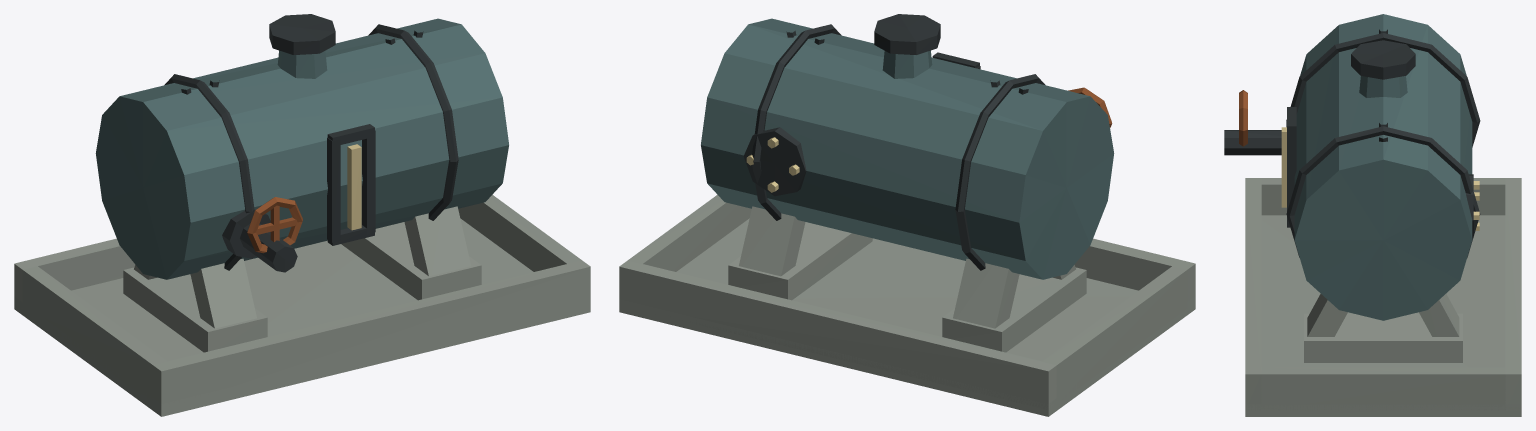
File: fuel-tank.source.glb
3 renders of one model, left to right at view 1: azimuth 30°, elevation 25°; view 2: azimuth 150°, elevation 25°; view 3: azimuth 270°, elevation 25°, orthographic. The views are drawn at different scales.
Visible parts, largest first — view 1: fuel-tank-tank-shell-mesh, fuel-tank-containment-floor-mesh, fuel-tank-containment-front-lip-mesh, fuel-tank-containment-left-lip-mesh, fuel-tank-cradle-1-base-mesh, fuel-tank-cradle-2-base-mesh, fuel-tank-containment-right-lip-mesh, fuel-tank-containment-rear-lip-mesh, fuel-tank-cradle-1-front-brace-mesh, fuel-tank-cradle-2-front-brace-mesh, fuel-tank-fill-cap-mesh, fuel-tank-support-band-2-mesh (+9 smaller); view 2: fuel-tank-tank-shell-mesh, fuel-tank-containment-floor-mesh, fuel-tank-containment-rear-lip-mesh, fuel-tank-containment-left-lip-mesh, fuel-tank-cradle-1-base-mesh, fuel-tank-cradle-2-base-mesh, fuel-tank-containment-right-lip-mesh, fuel-tank-containment-front-lip-mesh, fuel-tank-cradle-1-rear-brace-mesh, fuel-tank-cradle-2-rear-brace-mesh, fuel-tank-service-hatch-plate-mesh, fuel-tank-fill-cap-mesh (+3 smaller); view 3: fuel-tank-tank-shell-mesh, fuel-tank-containment-floor-mesh, fuel-tank-containment-right-lip-mesh, fuel-tank-cradle-2-base-mesh, fuel-tank-containment-front-lip-mesh, fuel-tank-containment-rear-lip-mesh, fuel-tank-support-band-2-mesh, fuel-tank-support-band-1-mesh, fuel-tank-fill-cap-mesh, fuel-tank-containment-left-lip-mesh, fuel-tank-outlet-pipe-mesh, fuel-tank-cradle-2-rear-brace-mesh (+5 smaller).
Boxes of the visible parts, left/top/right/bottom form: fuel-tank-tank-shell-mesh: left=95, top=18, right=508, bottom=279; fuel-tank-containment-floor-mesh: left=14, top=218, right=590, bottom=416; fuel-tank-containment-front-lip-mesh: left=153, top=260, right=590, bottom=409; fuel-tank-containment-left-lip-mesh: left=22, top=266, right=167, bottom=403; fuel-tank-cradle-1-base-mesh: left=123, top=267, right=267, bottom=352; fuel-tank-cradle-2-base-mesh: left=341, top=222, right=481, bottom=300; fuel-tank-containment-right-lip-mesh: left=458, top=195, right=581, bottom=271; fuel-tank-containment-rear-lip-mesh: left=14, top=238, right=135, bottom=301; fuel-tank-cradle-1-front-brace-mesh: left=190, top=258, right=256, bottom=328; fuel-tank-cradle-2-front-brace-mesh: left=404, top=206, right=470, bottom=276; fuel-tank-fill-cap-mesh: left=269, top=14, right=335, bottom=54; fuel-tank-support-band-2-mesh: left=368, top=24, right=458, bottom=220; fuel-tank-tank-shell-mesh: left=701, top=18, right=1114, bottom=279; fuel-tank-containment-floor-mesh: left=619, top=218, right=1195, bottom=416; fuel-tank-containment-rear-lip-mesh: left=619, top=260, right=1056, bottom=409; fuel-tank-containment-left-lip-mesh: left=1042, top=266, right=1187, bottom=403; fuel-tank-cradle-1-base-mesh: left=942, top=267, right=1086, bottom=352; fuel-tank-cradle-2-base-mesh: left=728, top=222, right=872, bottom=300; fuel-tank-containment-right-lip-mesh: left=628, top=195, right=751, bottom=271; fuel-tank-containment-front-lip-mesh: left=1074, top=238, right=1195, bottom=301; fuel-tank-cradle-1-rear-brace-mesh: left=953, top=258, right=1019, bottom=328; fuel-tank-cradle-2-rear-brace-mesh: left=739, top=206, right=805, bottom=276; fuel-tank-service-hatch-plate-mesh: left=743, top=127, right=806, bottom=196; fuel-tank-fill-cap-mesh: left=874, top=14, right=940, bottom=54; fuel-tank-tank-shell-mesh: left=1294, top=14, right=1472, bottom=320; fuel-tank-containment-floor-mesh: left=1245, top=215, right=1521, bottom=416; fuel-tank-containment-right-lip-mesh: left=1261, top=367, right=1505, bottom=410; fuel-tank-cradle-2-base-mesh: left=1304, top=313, right=1462, bottom=362; fuel-tank-containment-front-lip-mesh: left=1245, top=178, right=1261, bottom=410; fuel-tank-containment-rear-lip-mesh: left=1505, top=178, right=1521, bottom=410; fuel-tank-support-band-2-mesh: left=1286, top=126, right=1480, bottom=257; fuel-tank-support-band-1-mesh: left=1286, top=33, right=1480, bottom=147; fuel-tank-fill-cap-mesh: left=1351, top=40, right=1415, bottom=79; fuel-tank-containment-left-lip-mesh: left=1261, top=178, right=1505, bottom=215; fuel-tank-outlet-pipe-mesh: left=1224, top=130, right=1281, bottom=155; fuel-tank-cradle-2-rear-brace-mesh: left=1419, top=294, right=1459, bottom=336.
Size of the model in its own units: 3.45 by 2.17 by 2.2.
